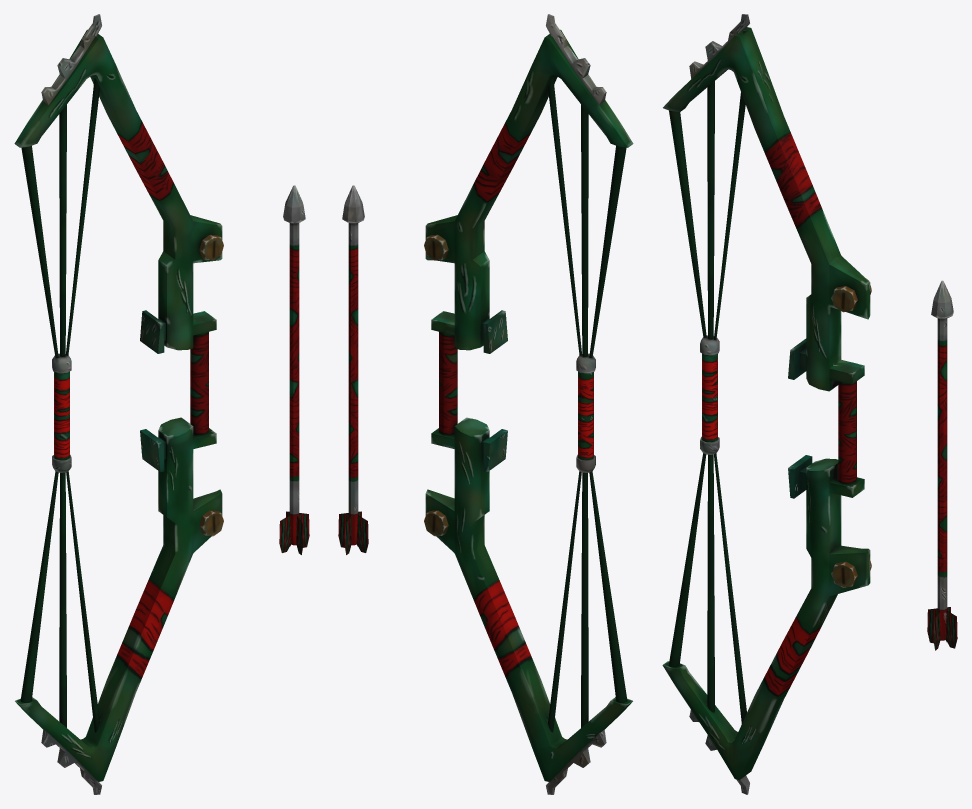
File: bow.glb
3 renders of one model, left to right at view 1: azimuth 30°, elevation 25°; view 2: azimuth 150°, elevation 25°; view 3: azimuth 330°, elevation 25°, orthographic.
Parts seen in each view (by area): view 1: Metal Bow and Arrow Final; view 2: Metal Bow and Arrow Final; view 3: Metal Bow and Arrow Final.
Part boxes in pixels (<box>): Metal Bow and Arrow Final: <box>14,14,309,794</box>; Metal Bow and Arrow Final: <box>338,14,633,794</box>; Metal Bow and Arrow Final: <box>662,14,957,794</box>.
Size of the model in its own units: 0.3813 by 0.972 by 0.046.
1 material, 1 textured.
